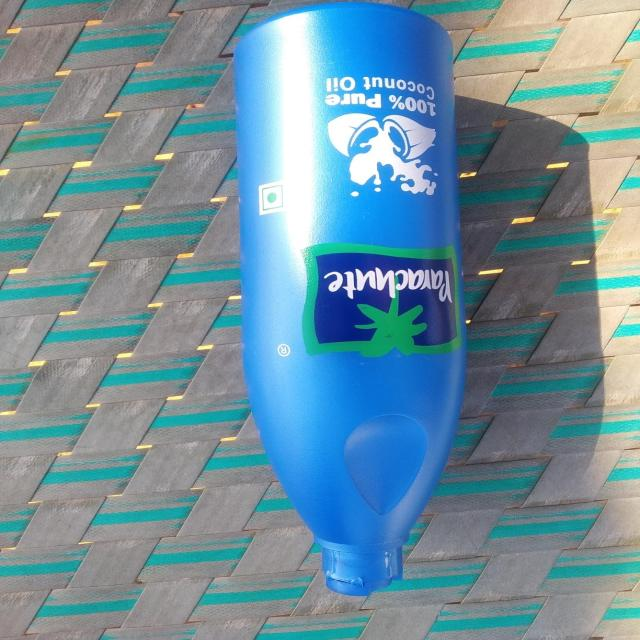parachute_oil: (224, 5, 465, 594)
